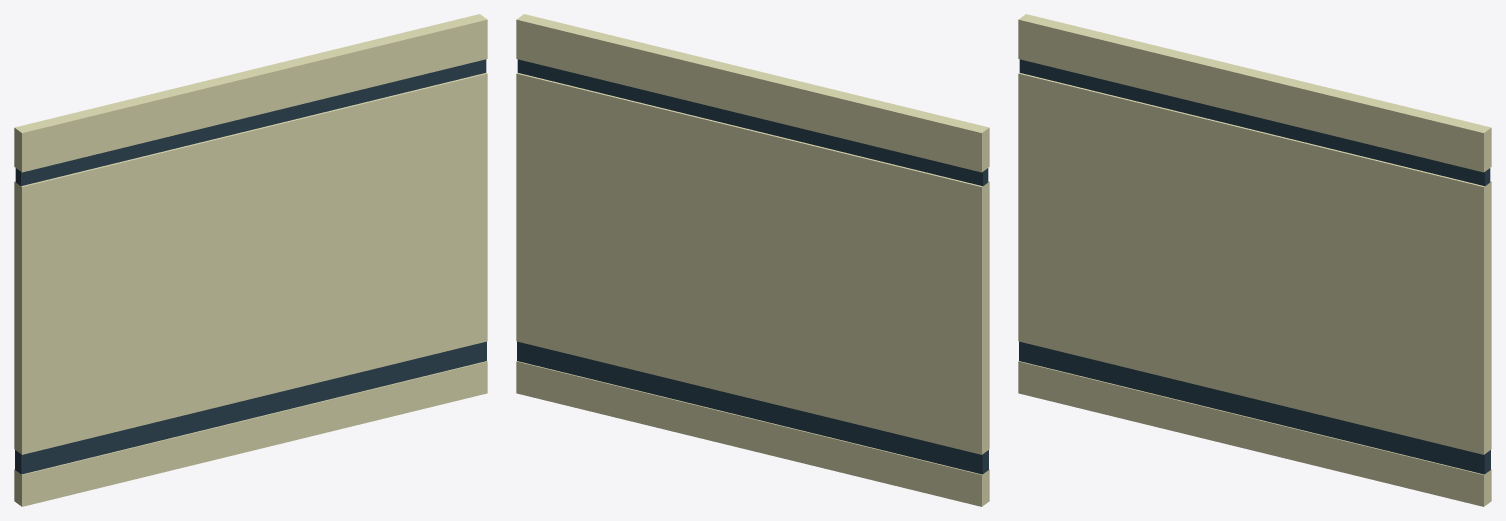
File: officeSeparator.fbx
The picture shows the model from 3 angles, left to right: view 1: azimuth 30°, elevation 25°; view 2: azimuth 150°, elevation 25°; view 3: azimuth 330°, elevation 25°; orthographic projection.
Visible parts, largest first — view 1: separator.010; view 2: separator.010; view 3: separator.010.
Boxes of the visible parts, <box> form: separator.010: <box>14,14,487,506</box>; separator.010: <box>516,14,989,506</box>; separator.010: <box>1018,14,1491,506</box>.
Bounding box in the file's own units: 0.9122 × 0.7 × 0.0261.
